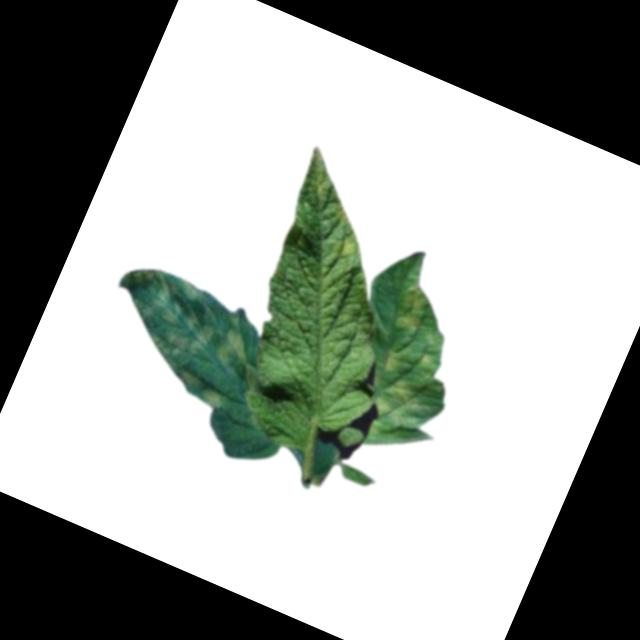Leaf_Mold: (88, 253, 287, 422), (356, 276, 468, 430), (332, 234, 363, 264)
